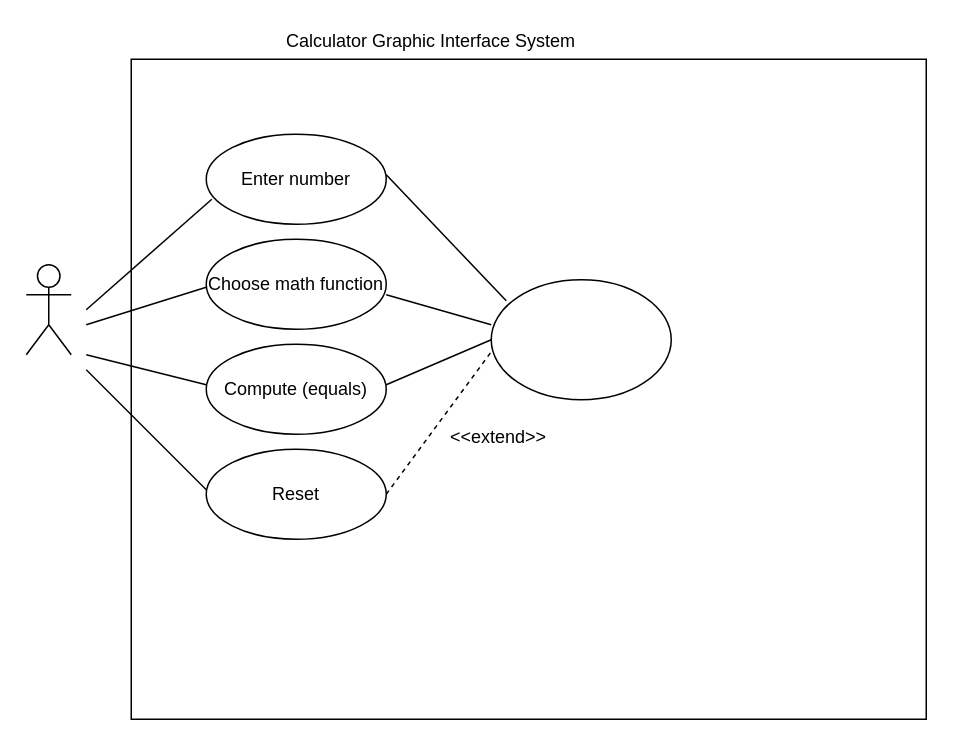
This 953x746 diagram has some shape labels left out. The shapes that lost their labels are listed below. From the top down, each one's centre as x and y in pixels, then its label:
pixel 48 309: User
pixel 580 339: Display
